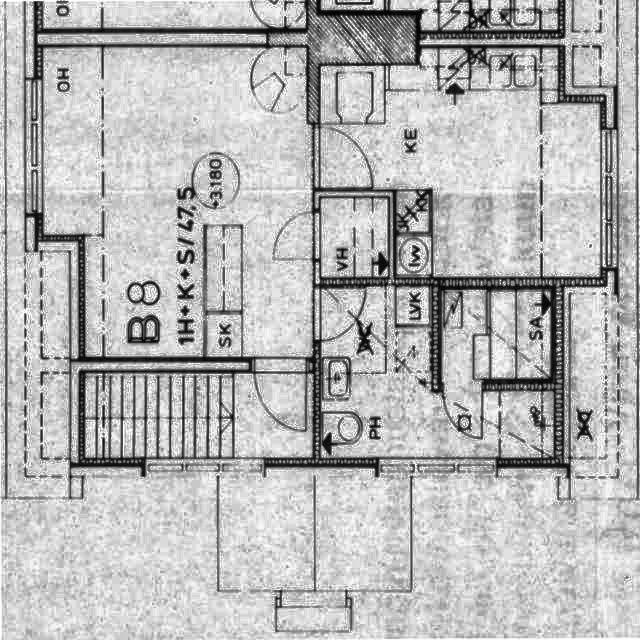room: (43, 47, 313, 357), (320, 48, 601, 278), (321, 286, 554, 458), (85, 372, 313, 458), (441, 288, 551, 382), (320, 198, 389, 278)
